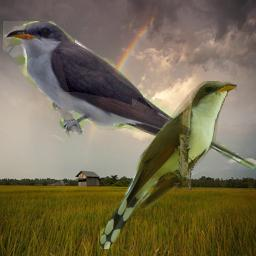Cuckoo: (3, 21, 254, 173), (100, 81, 237, 249)
